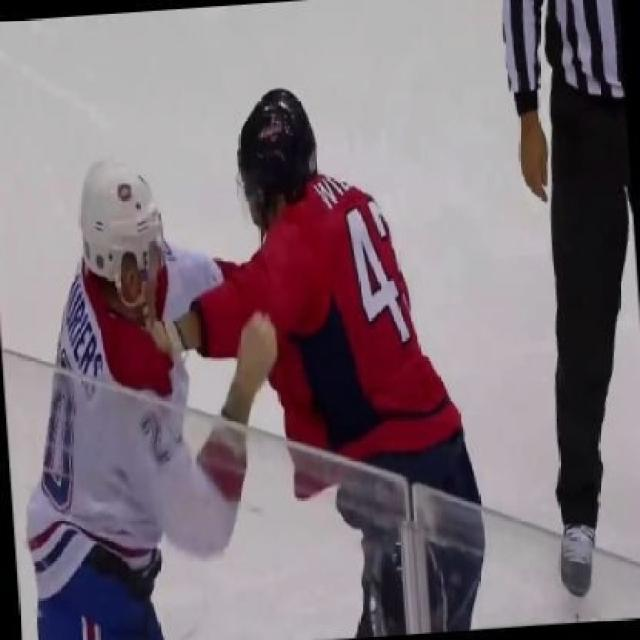fight: (18, 32, 489, 640)
non-fight: (478, 0, 638, 602)
